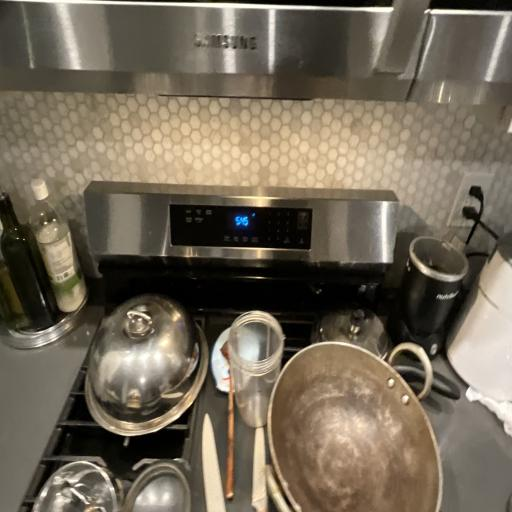Pan: (261, 316, 450, 512)
Stove: (35, 157, 443, 512)
knife: (191, 406, 234, 512), (243, 416, 277, 512)
